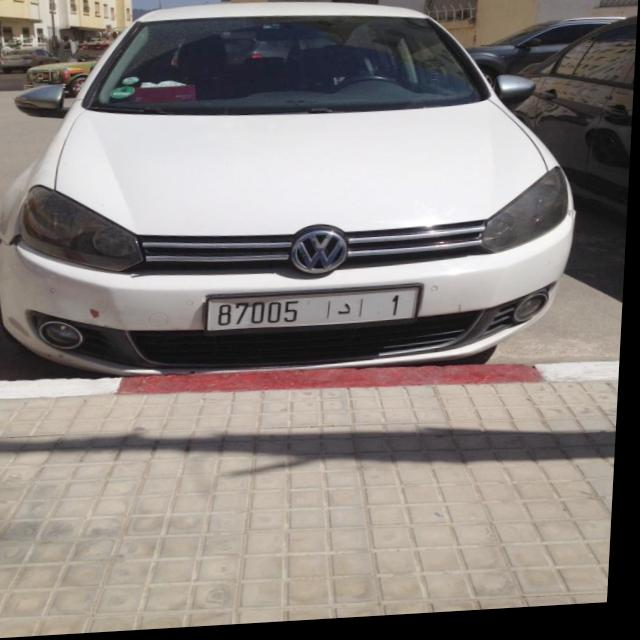License-Plate: (209, 294, 422, 333)
